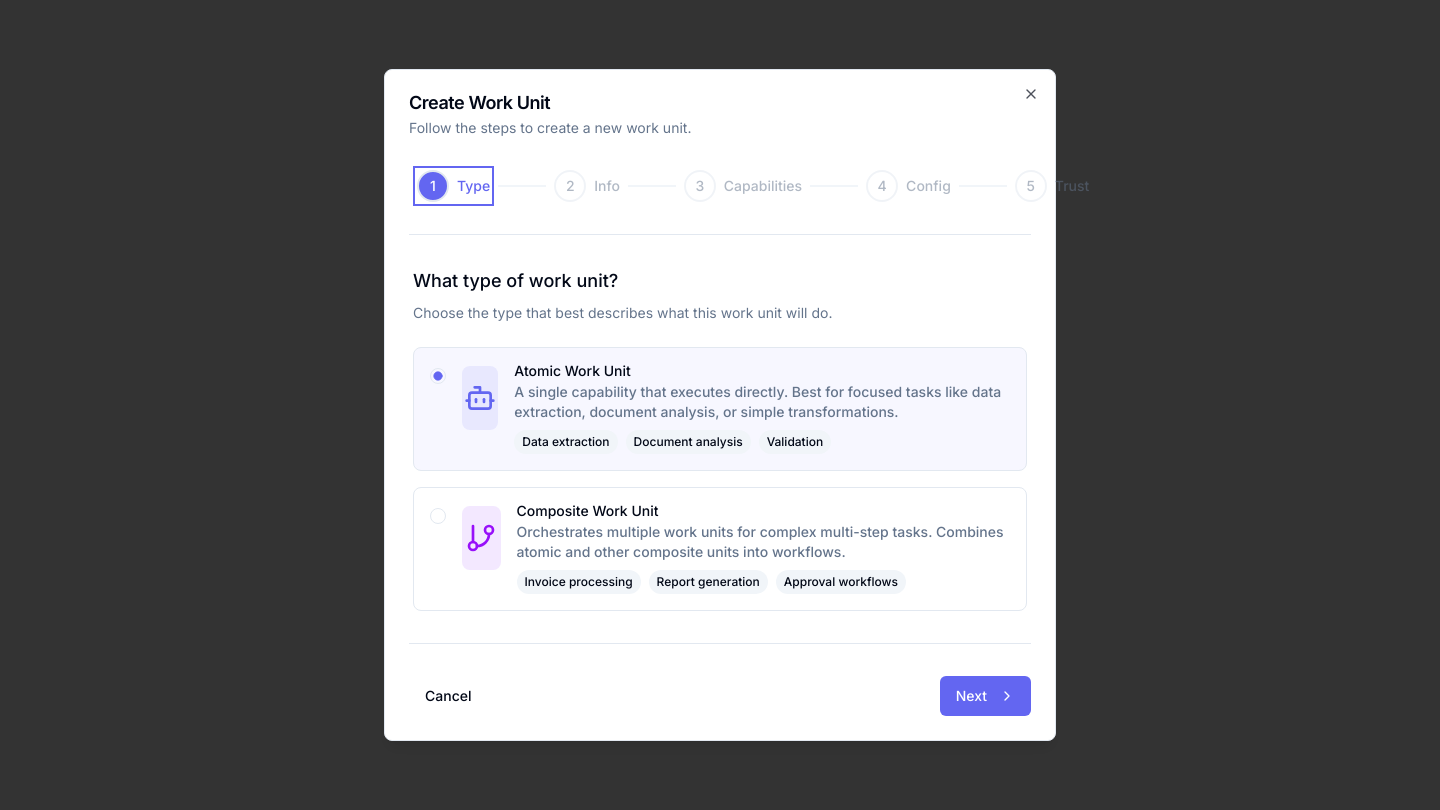
WorkUnitCreateWizard › Step Navigation › should navigate to next step when clicking Next
The width and height of the screenshot is (1440, 810).
Click the button with test id "wizard-next-btn" at (985,696), box [940,676,1031,716]
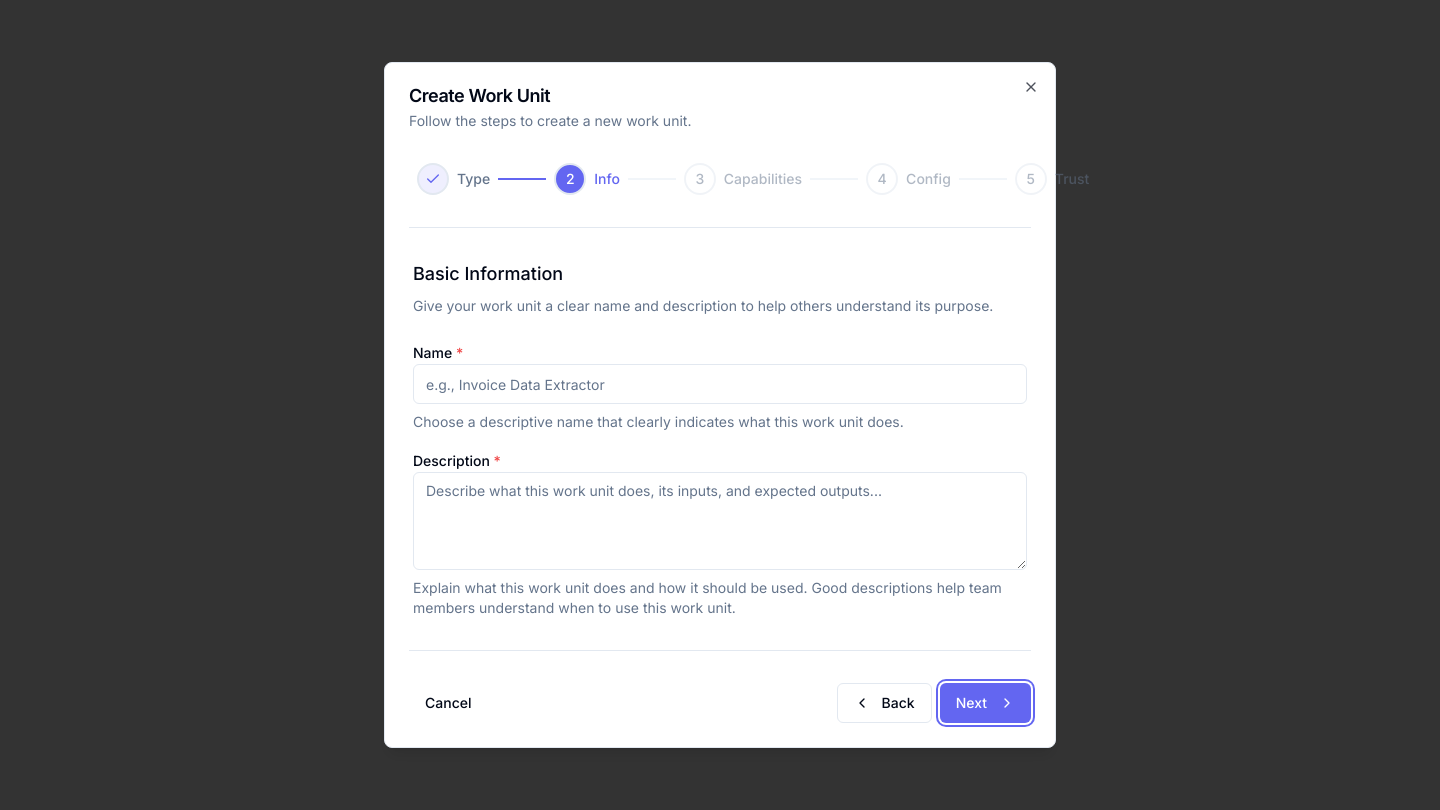
Expected: the heading "Basic Information" is shown, [413,263,563,284]
